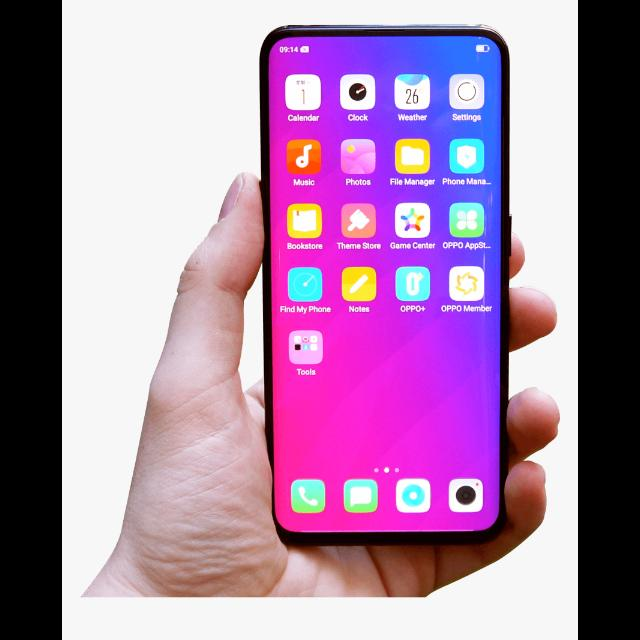Smartphone: (258, 27, 512, 549)
